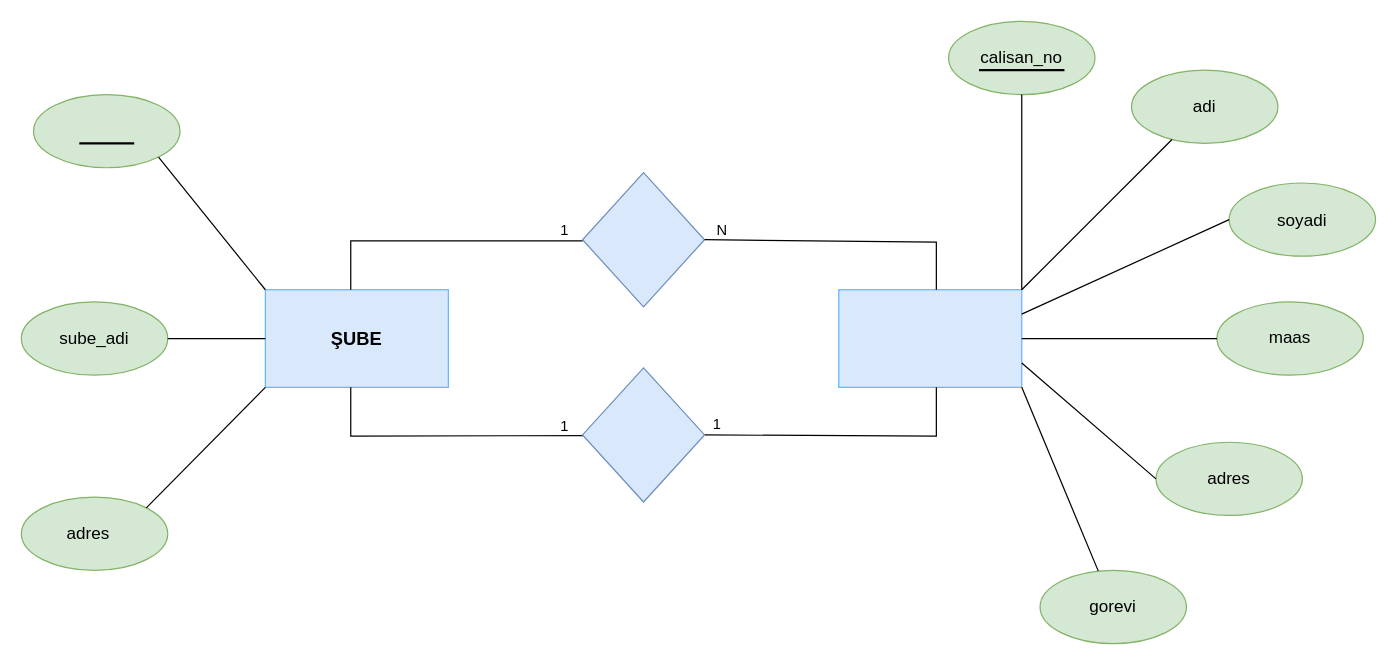
The diagram is 1397 pixels wide and 665 high, and some of its shapes have lost their labels. The centre of each missing label's shape, as x and y in pixels:
sube_id: [106,130]
YÖNETİR: [643,434]
ÇALIŞAN: [930,338]
ÇALIŞIR: [643,239]
